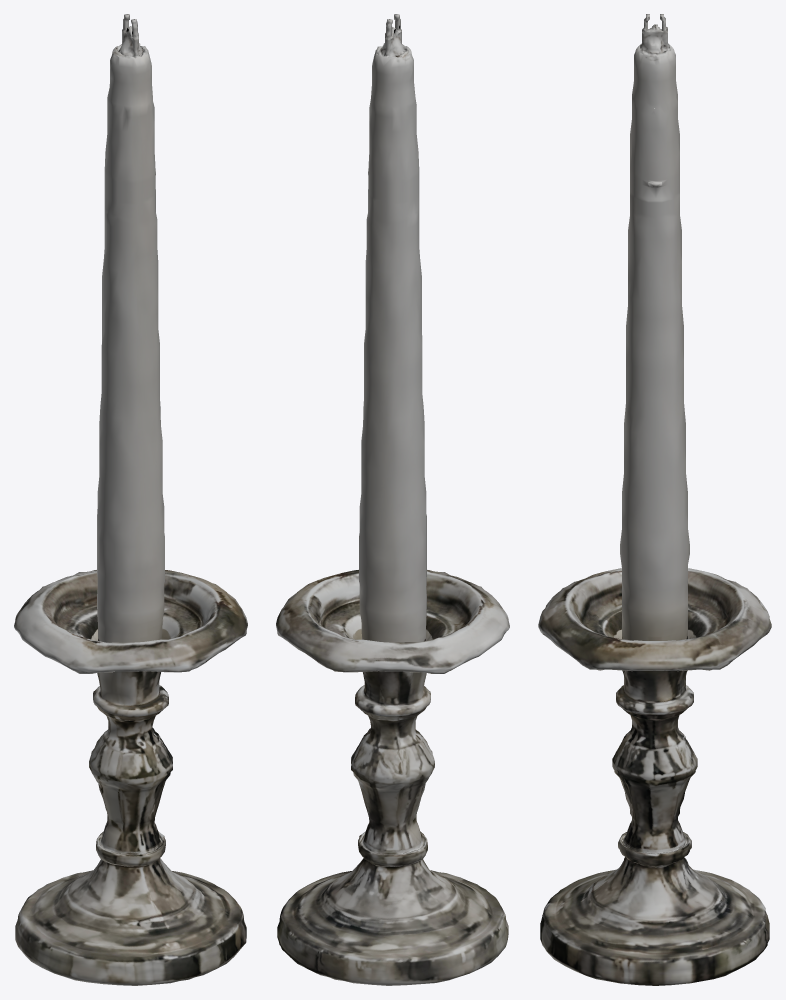
The model's file is candle.fbx.
The picture shows the model from 3 angles, left to right: view 1: azimuth 30°, elevation 25°; view 2: azimuth 150°, elevation 25°; view 3: azimuth 270°, elevation 25°; orthographic projection.
Visible parts, largest first — view 1: tripo_node_dbde96c7; view 2: tripo_node_dbde96c7; view 3: tripo_node_dbde96c7.
Boxes of the visible parts, <box> form: tripo_node_dbde96c7: <box>14,14,247,985</box>; tripo_node_dbde96c7: <box>276,14,509,985</box>; tripo_node_dbde96c7: <box>538,14,771,985</box>.
Bounding box in the file's own units: 22.06 × 22.44 × 98.01.
Materials: 1 (1 with a texture image).
